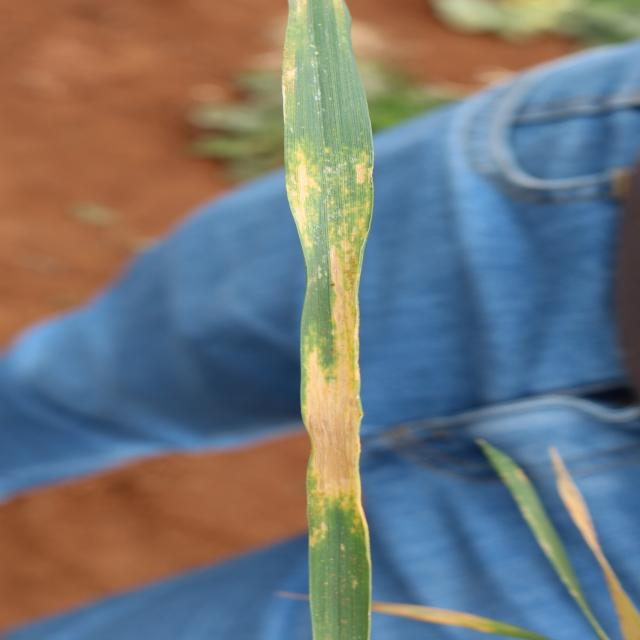Septoria: (303, 376, 360, 499), (330, 243, 358, 375)
